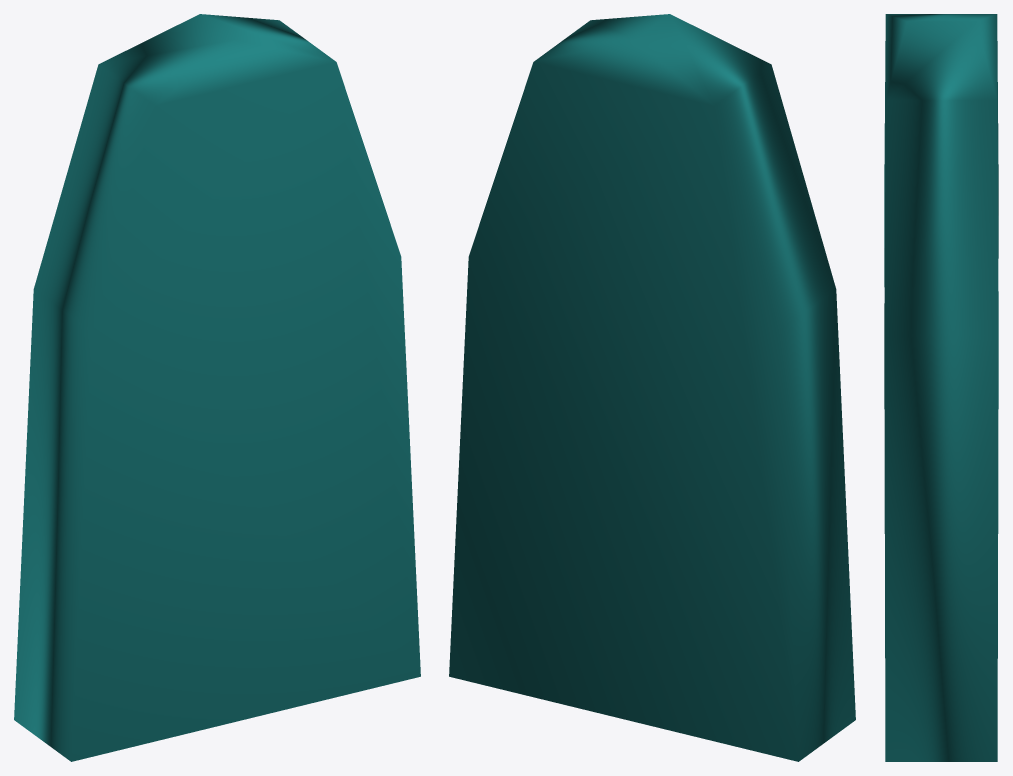
The model's file is hand_grips_collider.fbx.
3 views of the same model, side by side, from view 1: azimuth 30°, elevation 25°; view 2: azimuth 150°, elevation 25°; view 3: azimuth 270°, elevation 25° (orthographic). The views are drawn at different scales.
Visible parts, largest first — view 1: hand_grips_collider; view 2: hand_grips_collider; view 3: hand_grips_collider.
Part boxes in pixels (box(x1,y1,x2,y2)): hand_grips_collider: box(14, 14, 420, 761); hand_grips_collider: box(449, 14, 855, 761); hand_grips_collider: box(884, 14, 998, 761).
Size of the model in its own units: 9.29 by 17.06 by 2.69.
